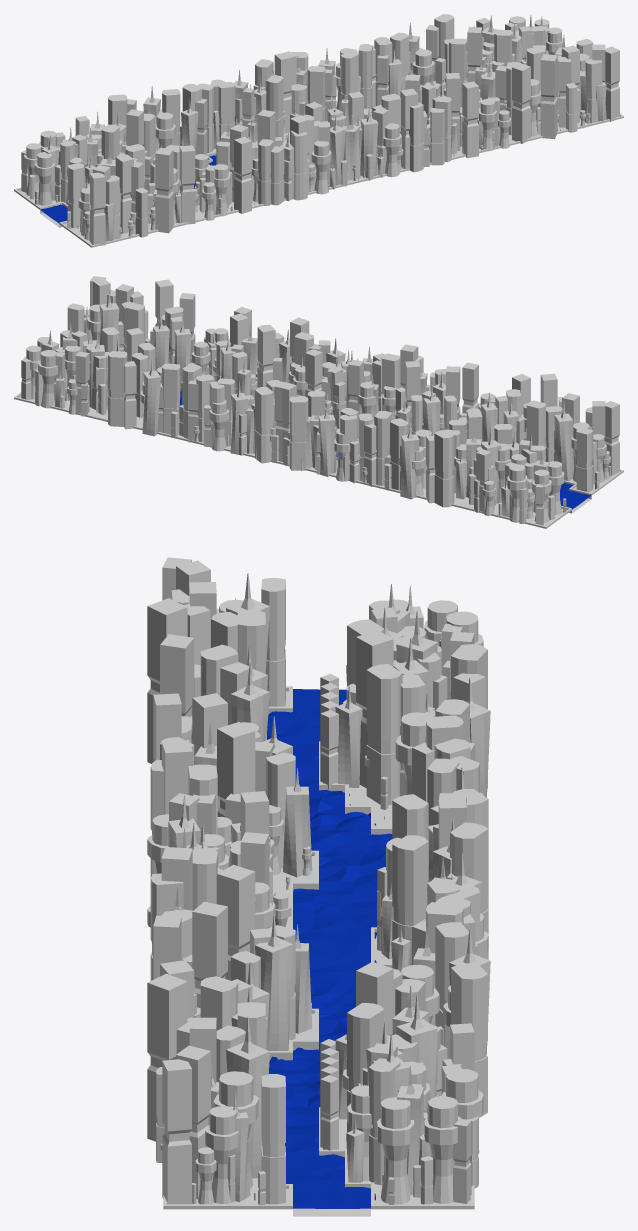
File: City.fbx
3 renders of one model, top to bottom at view 1: azimuth 30°, elevation 25°; view 2: azimuth 150°, elevation 25°; view 3: azimuth 270°, elevation 25°, orthographic. The views are drawn at different scales.
Parts seen in each view (by area): view 1: City; view 2: City; view 3: City.
Part boxes in pixels (bbox=[...]): City: bbox=[14, 14, 623, 247]; City: bbox=[14, 276, 623, 528]; City: bbox=[147, 557, 490, 1216].
Size of the model in its own units: 790 by 115 by 221.
